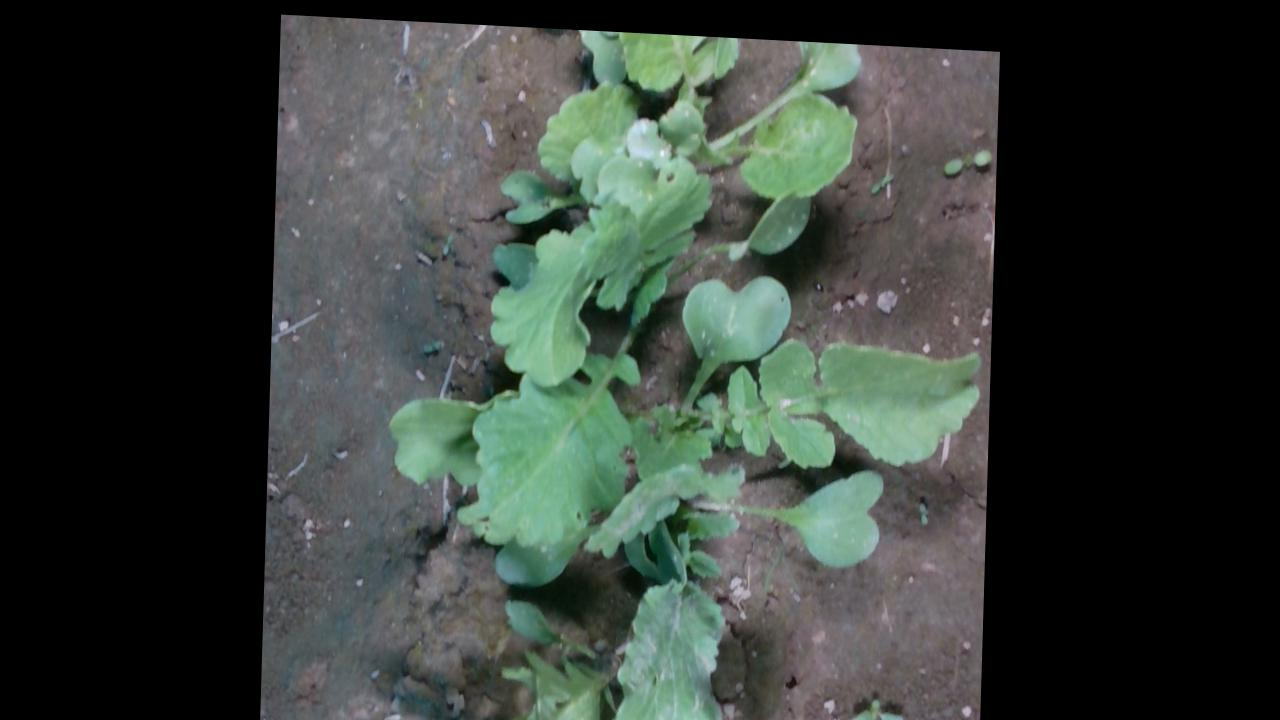weed: (848, 685, 911, 719), (945, 136, 994, 167), (872, 164, 896, 184)
